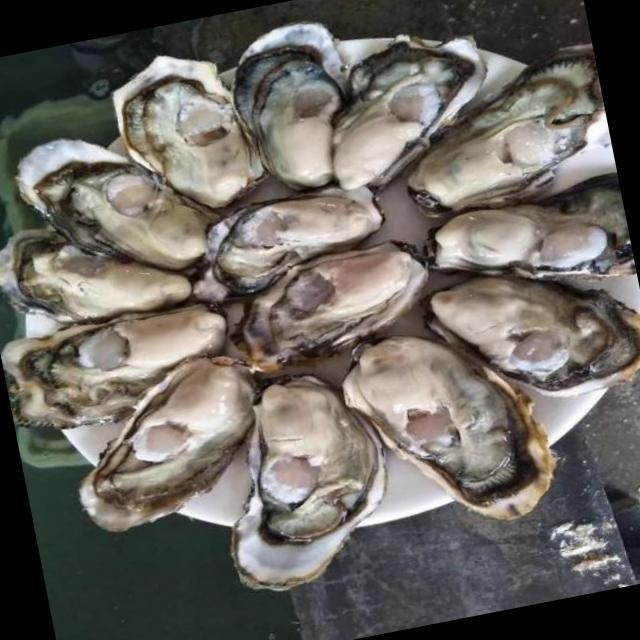Oyster-Open: (300, 279, 608, 568), (55, 312, 295, 584), (201, 191, 457, 416), (0, 97, 236, 311), (0, 263, 255, 458), (217, 362, 408, 611), (155, 149, 403, 329), (86, 27, 279, 239), (217, 4, 368, 205), (0, 219, 203, 330)
